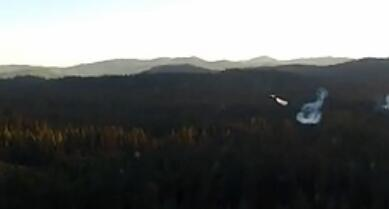smoke: (295, 87, 332, 124)
